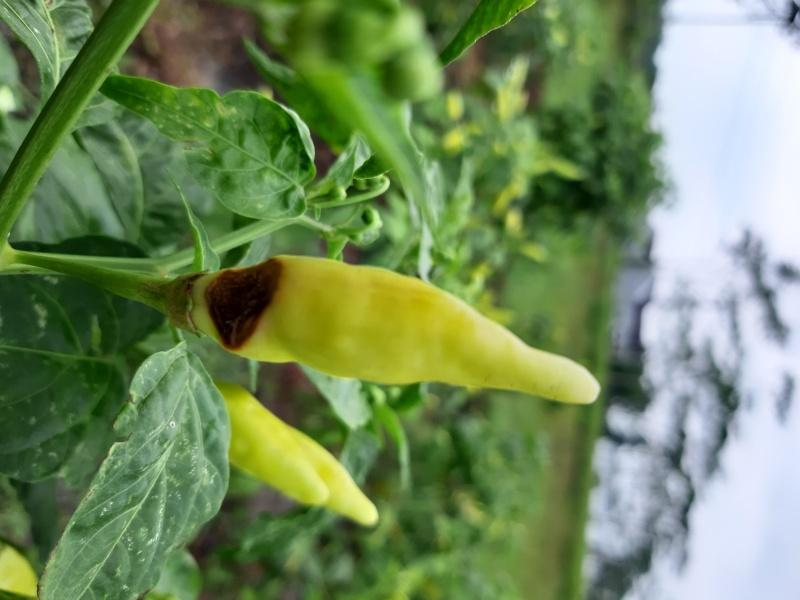antraknosa: (177, 257, 601, 407)
cabai_normal: (200, 379, 381, 528)
